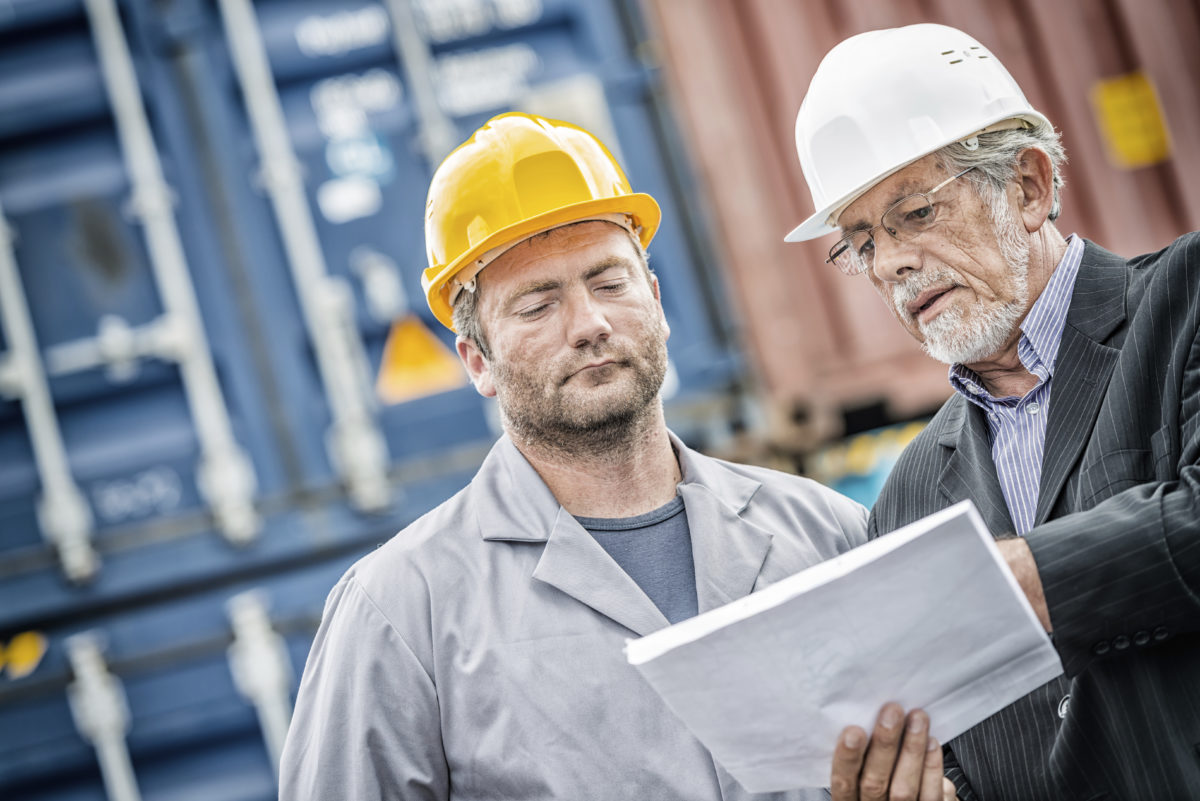Hard Hat: (774, 18, 1057, 251), (419, 108, 665, 298)
